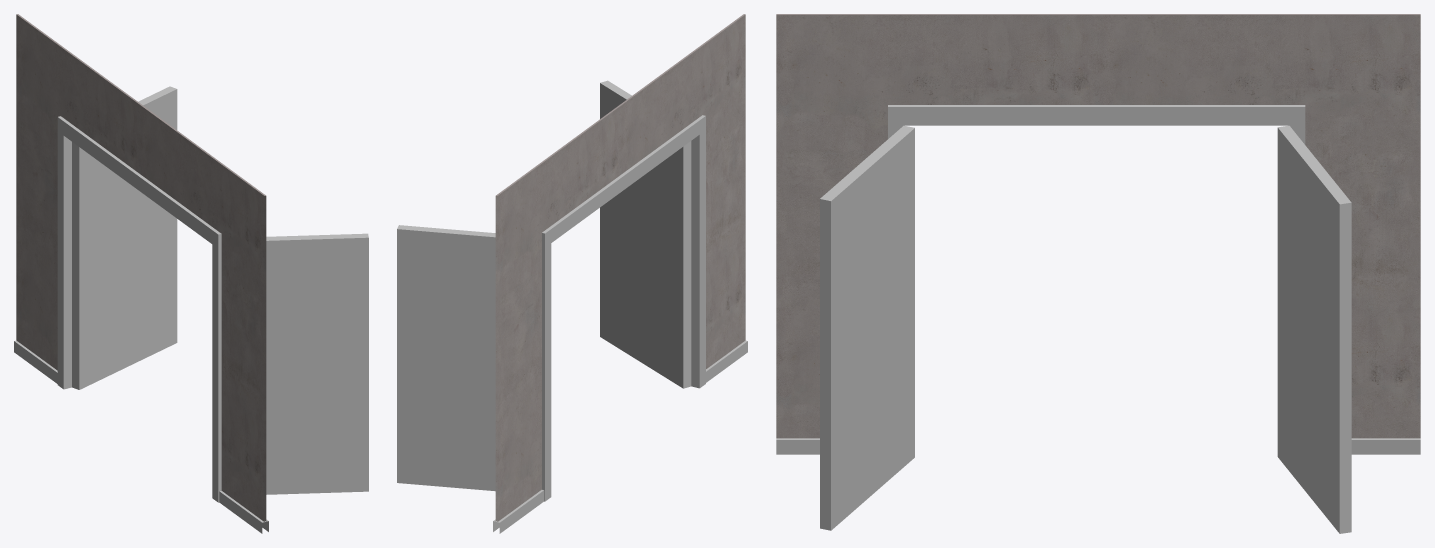
File: SM_Door_Big_Blocking.fbx
3 views of the same model, side by side, from view 1: azimuth 30°, elevation 25°; view 2: azimuth 150°, elevation 25°; view 3: azimuth 270°, elevation 25° (orthographic). The views are drawn at different scales.
Parts seen in each view (by area): view 1: SM_Door_Big_Blocking, SM_Door_Small_Blocking.003, SM_Door_Small_Blocking.004, SM_Door_Small_Blocking.002; view 2: SM_Door_Big_Blocking, SM_Door_Small_Blocking.004, SM_Door_Small_Blocking.003, SM_Door_Small_Blocking.002; view 3: SM_Door_Big_Blocking, SM_Door_Small_Blocking.003, SM_Door_Small_Blocking.004, SM_Door_Small_Blocking.002.
Part boxes in pixels (left/top/right/bottom): SM_Door_Big_Blocking: left=14, top=14, right=268, bottom=533; SM_Door_Small_Blocking.003: left=266, top=233, right=368, bottom=494; SM_Door_Small_Blocking.004: left=72, top=86, right=177, bottom=389; SM_Door_Small_Blocking.002: left=57, top=116, right=221, bottom=502; SM_Door_Big_Blocking: left=493, top=14, right=747, bottom=533; SM_Door_Small_Blocking.004: left=397, top=225, right=495, bottom=491; SM_Door_Small_Blocking.003: left=600, top=80, right=691, bottom=388; SM_Door_Small_Blocking.002: left=542, top=115, right=705, bottom=501; SM_Door_Big_Blocking: left=776, top=14, right=1420, bottom=454; SM_Door_Small_Blocking.003: left=820, top=125, right=914, bottom=530; SM_Door_Small_Blocking.004: left=1277, top=125, right=1351, bottom=533; SM_Door_Small_Blocking.002: left=888, top=105, right=1305, bottom=144.
Size of the model in its own units: 124 by 300 by 400.
